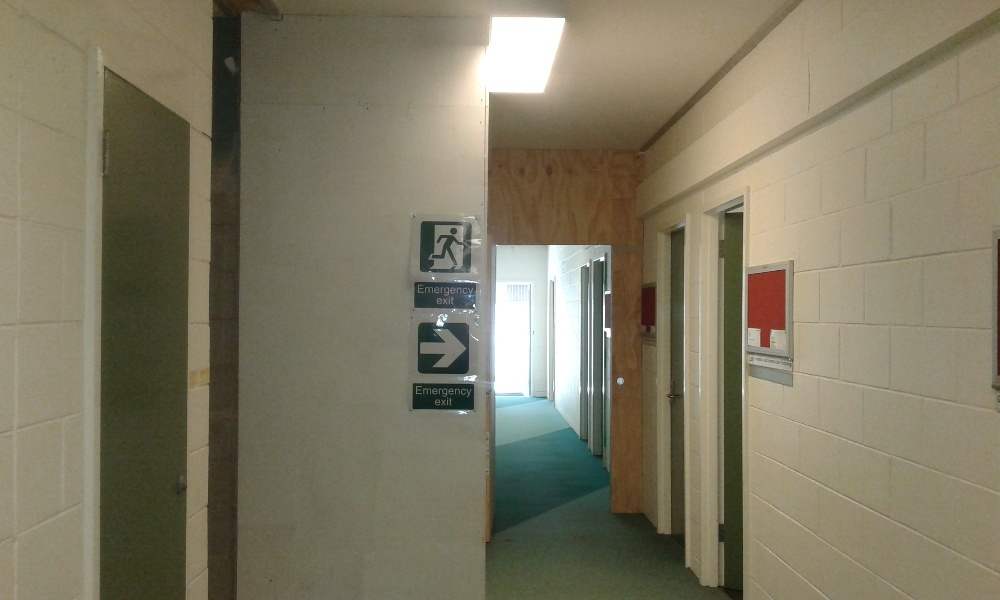text: (753, 355, 768, 369), (769, 355, 784, 369), (433, 284, 448, 297), (449, 284, 464, 297), (418, 284, 432, 297), (417, 386, 432, 398), (433, 386, 448, 398), (449, 386, 464, 398), (465, 284, 475, 297), (435, 398, 448, 407), (437, 296, 448, 306), (465, 386, 474, 398), (785, 355, 792, 369), (449, 296, 454, 306), (749, 355, 752, 369), (449, 398, 453, 407), (415, 386, 416, 398)
